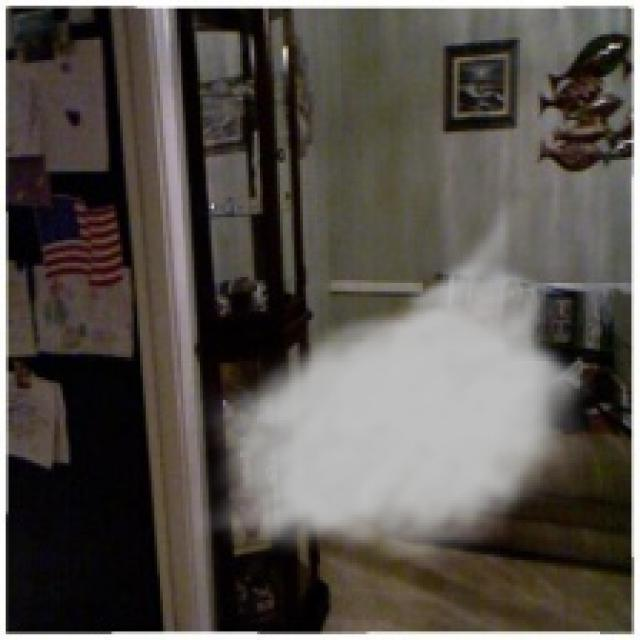Smoke: (192, 197, 597, 569)
